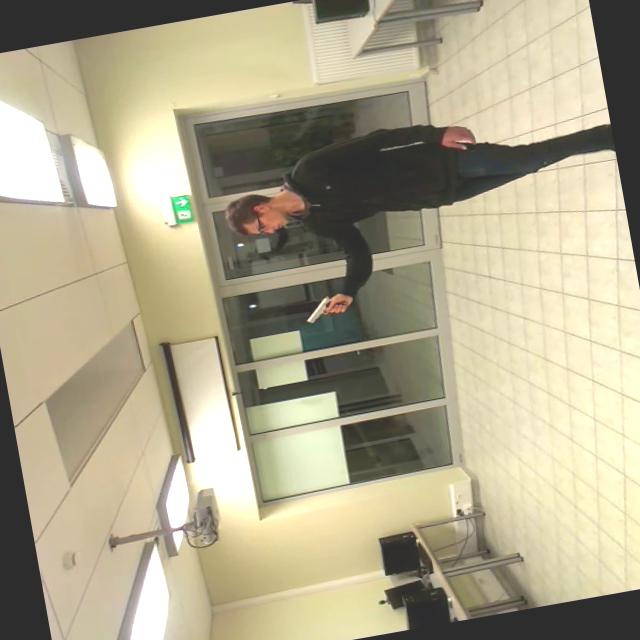handgun: (299, 289, 359, 328)
